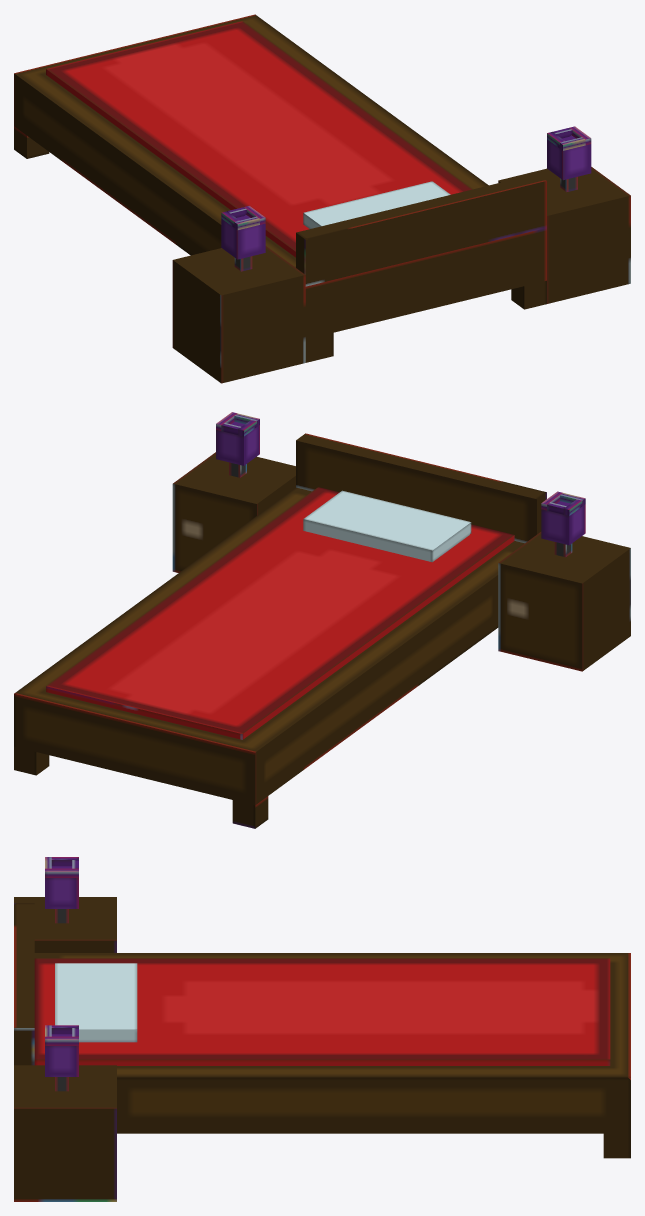
Rendered from Bed.fbx.
3 views of the same model, one above another, from view 1: azimuth 30°, elevation 25°; view 2: azimuth 150°, elevation 25°; view 3: azimuth 270°, elevation 25° (orthographic). The views are drawn at different scales.
Visible parts, largest first — view 1: cube_5, cube, cube_21, cube_7, cube_8, cube_6, cube_16, cube_11, cube_1, cube_2, cube_4; view 2: cube_5, cube, cube_21, cube_7, cube_8, cube_6, cube_16, cube_11, cube_4, cube_3; view 3: cube_5, cube, cube_8, cube_6, cube_21, cube_7, cube_11, cube_16, cube_3.
Boxes of the visible parts, x1,y1,x2,y2 form: cube_5: [46, 21, 472, 257]; cube: [14, 14, 546, 339]; cube_21: [172, 246, 305, 383]; cube_7: [296, 174, 546, 286]; cube_8: [498, 167, 630, 303]; cube_6: [303, 181, 450, 228]; cube_16: [221, 215, 265, 259]; cube_11: [547, 135, 591, 180]; cube_1: [511, 280, 546, 309]; cube_2: [305, 332, 333, 362]; cube_4: [14, 126, 49, 158]; cube_5: [46, 487, 514, 739]; cube: [14, 487, 524, 805]; cube_21: [498, 532, 630, 671]; cube_7: [296, 433, 546, 543]; cube_8: [172, 452, 295, 572]; cube_6: [303, 490, 471, 562]; cube_16: [541, 501, 585, 545]; cube_11: [216, 421, 259, 465]; cube_4: [232, 796, 268, 828]; cube_3: [14, 746, 49, 775]; cube_5: [34, 958, 610, 1065]; cube: [34, 953, 630, 1133]; cube_8: [14, 1065, 116, 1201]; cube_6: [55, 963, 137, 1042]; cube_21: [14, 897, 116, 952]; cube_7: [14, 903, 34, 1065]; cube_11: [45, 1034, 78, 1076]; cube_16: [45, 866, 78, 908]; cube_3: [603, 1133, 630, 1158].
Size of the model in its own units: 228 by 75 by 281.
1 material, 1 textured.
